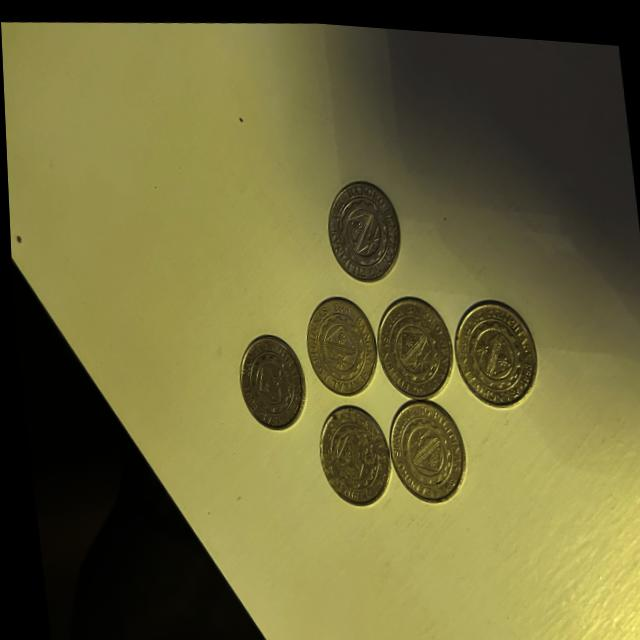1_Old_Back: (377, 297, 444, 388), (328, 182, 395, 271), (460, 307, 523, 392), (392, 405, 454, 490), (306, 299, 366, 382), (320, 409, 376, 492), (238, 342, 296, 420)
